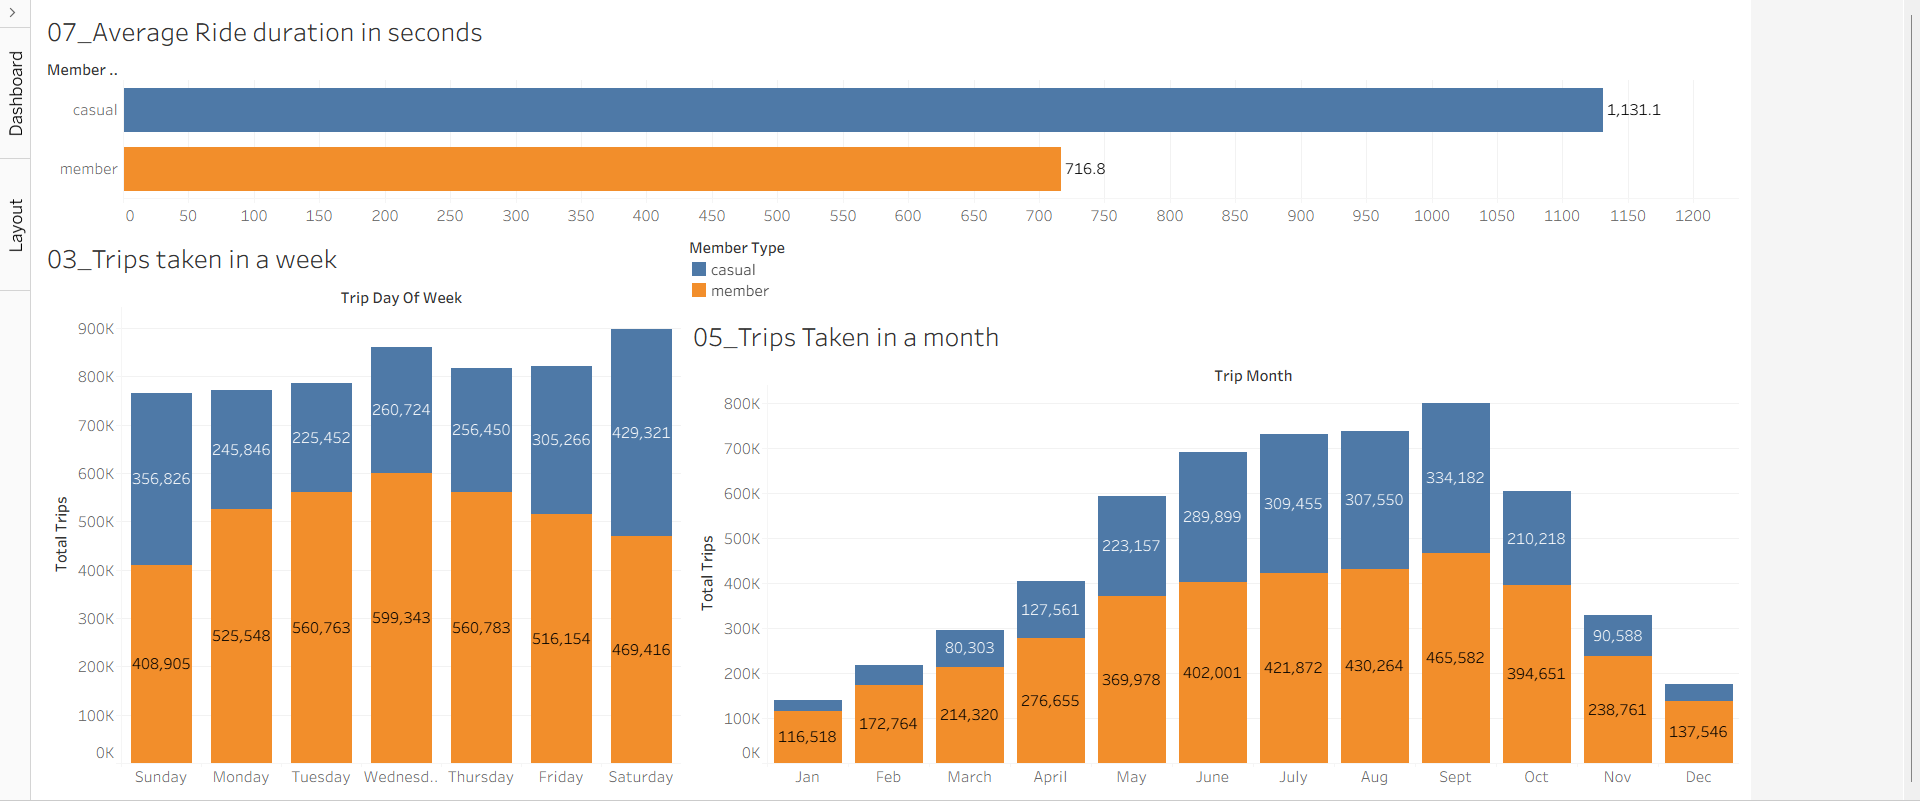

The page's visual inventory and layout, read from the dashboard file:
{"tool":"tableau","page":{"name":"02_Dashboard","canvas":[1000,1000],"units":"permille","ordinal":1},"visuals":[{"type":"worksheet","title":"07_Average Ride duration in seconds ","mark":"Automatic","rows":["member_type"],"cols":["avg_ride_length_seconds"],"box":[4.7,10.2,990.7,282.8]},{"type":"worksheet","title":"03_Trips taken in a week","mark":"Bar","rows":["total_trips"],"cols":["trip_day_of_week"],"box":[4.7,293,375.6,696.8]},{"type":"legend","title":"03_Trips taken in a week","param":"[federated.0nho7j70rc21o314uao3c0qdfxb7].[none:member_type:nk]","box":[380.2,293,615.1,99.4]},{"type":"worksheet","title":"05_Trips Taken in a month","mark":"Bar","rows":["total_trips"],"cols":["trip_month"],"box":[380.2,392.4,615.1,597.5]}]}

Visuals, with their boxes on the dashboard's canvas, which has no fixed pixel size, in thousandths of its width and height (x1, y1, x2, y2). These are canvas units, not pixel positions in the 1920x801 screenshot, which may show the page scaled, cropped or inside an application window:
"07_Average Ride duration in seconds " worksheet: x1=5 y1=10 x2=995 y2=293
"03_Trips taken in a week" worksheet (Bar marks): x1=5 y1=293 x2=380 y2=990
"03_Trips taken in a week" legend: x1=380 y1=293 x2=995 y2=392
"05_Trips Taken in a month" worksheet (Bar marks): x1=380 y1=392 x2=995 y2=990
